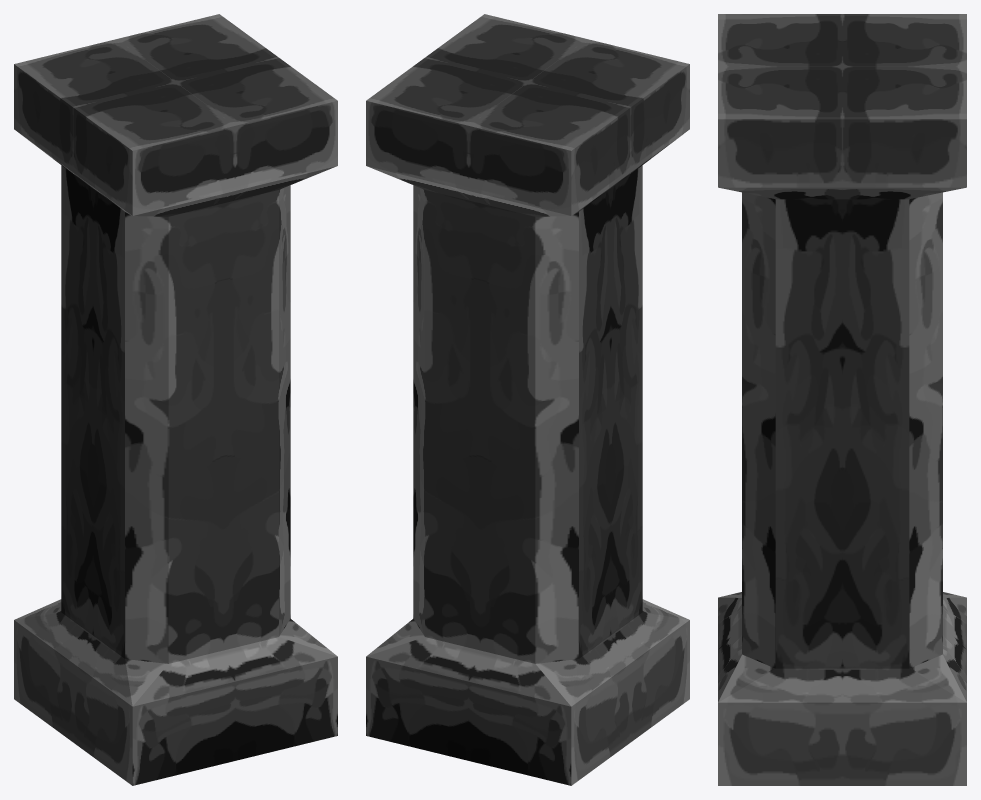
Rendered from VV-EthPawuraElement-3.fbx.
The picture shows the model from 3 angles, left to right: view 1: azimuth 30°, elevation 25°; view 2: azimuth 150°, elevation 25°; view 3: azimuth 270°, elevation 25°; orthographic projection. The views are drawn at different scales.
Parts seen in each view (by area): view 1: EthPawuraBlock-2; view 2: EthPawuraBlock-2; view 3: EthPawuraBlock-2.
Boxes of the visible parts, <box> form: EthPawuraBlock-2: <box>14,14,337,785</box>; EthPawuraBlock-2: <box>366,14,689,785</box>; EthPawuraBlock-2: <box>718,14,966,785</box>.
Size of the model in its own units: 0.6766 by 2 by 0.6766.
